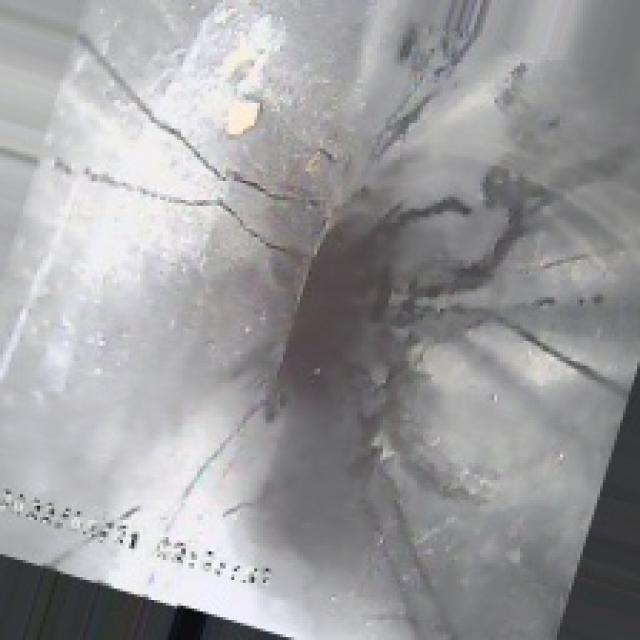shape_deformation: (146, 123, 551, 503)
